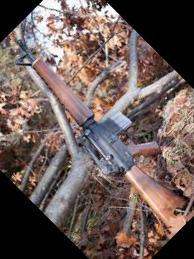larga: (15, 38, 192, 240)
